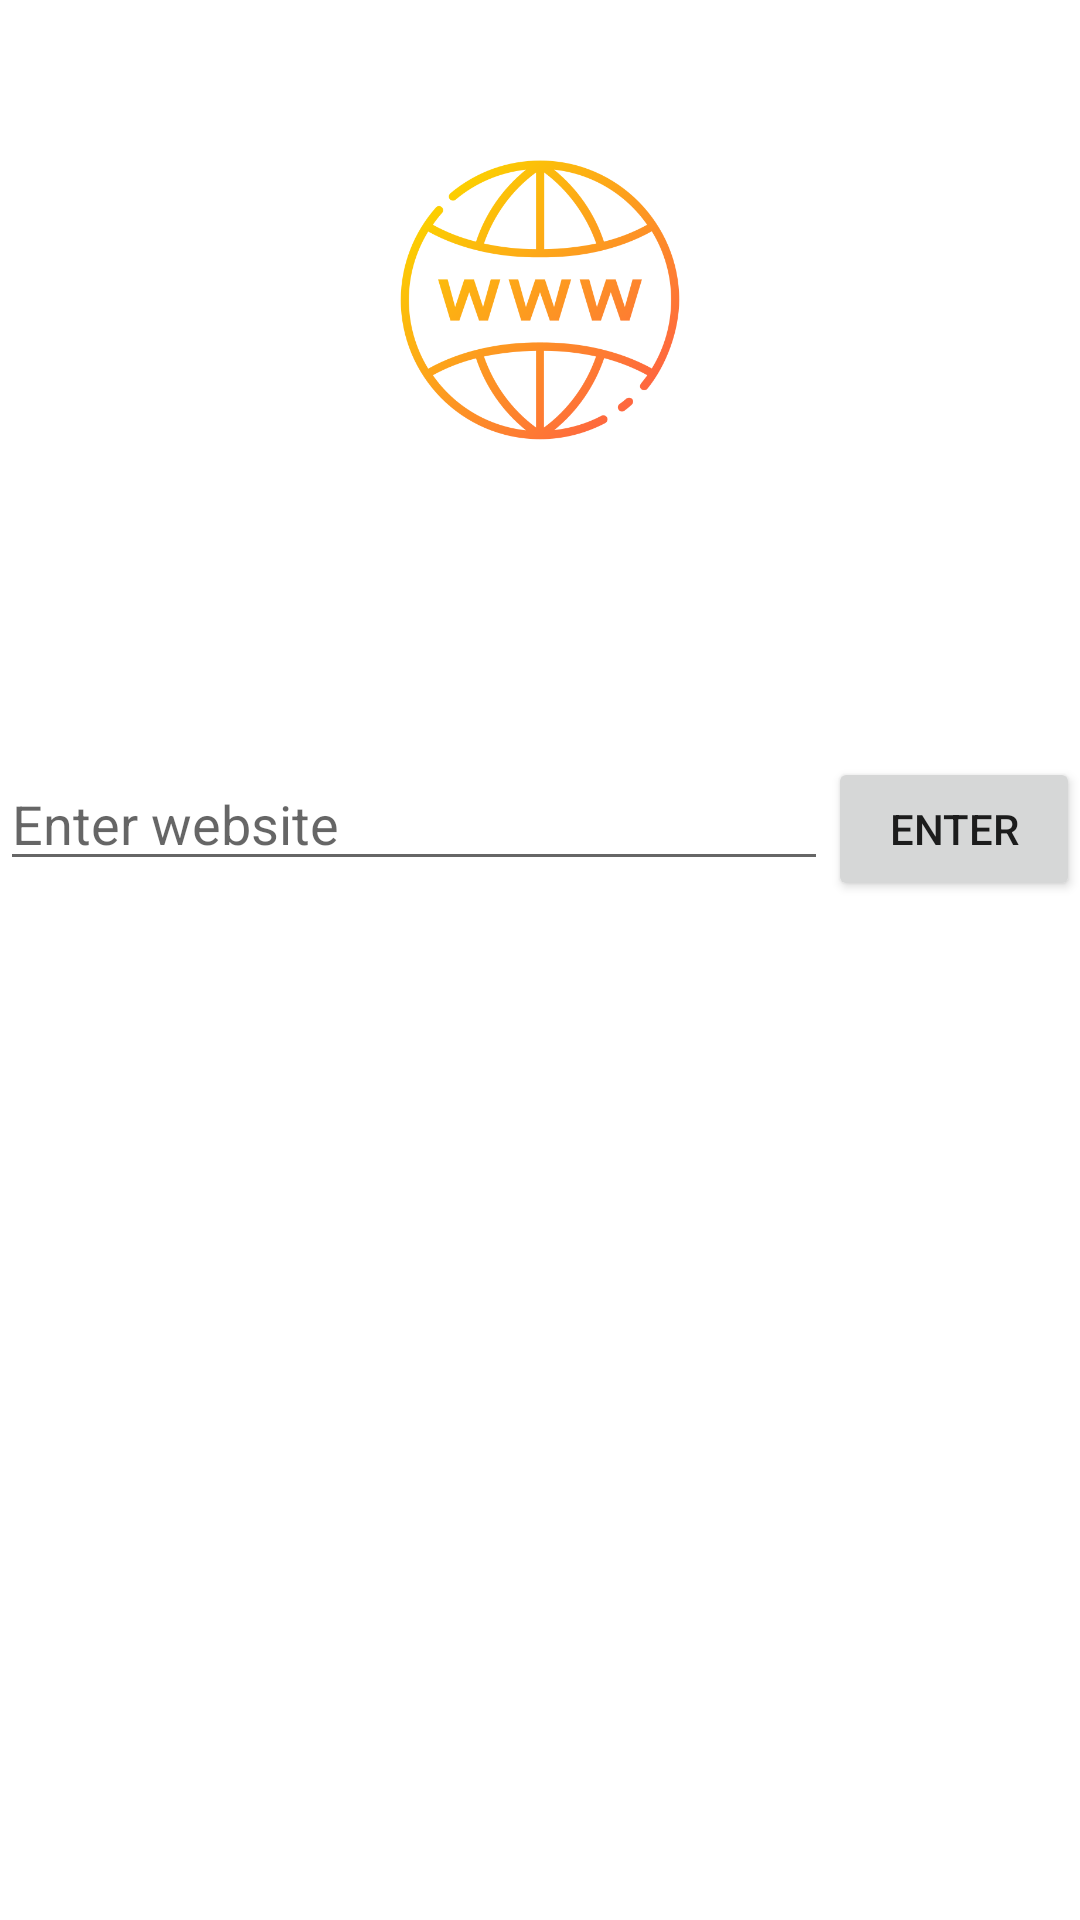

Where to tap for icons on this 1080 x 1920 app screen, as (x=x, y=y):
browser: (x=540, y=300)
